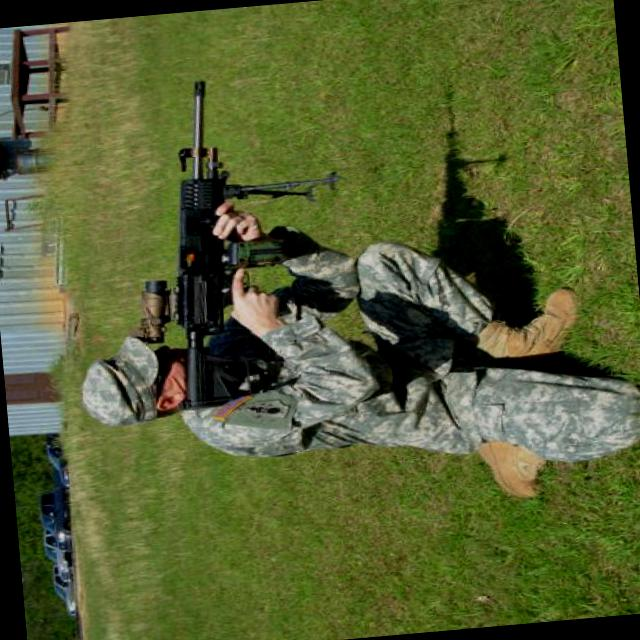long weapon: (116, 88, 268, 349)
